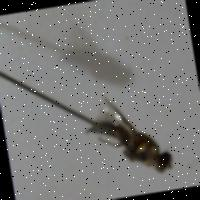Oriental-fruit-fly: (73, 74, 178, 192), (88, 182, 92, 186)
